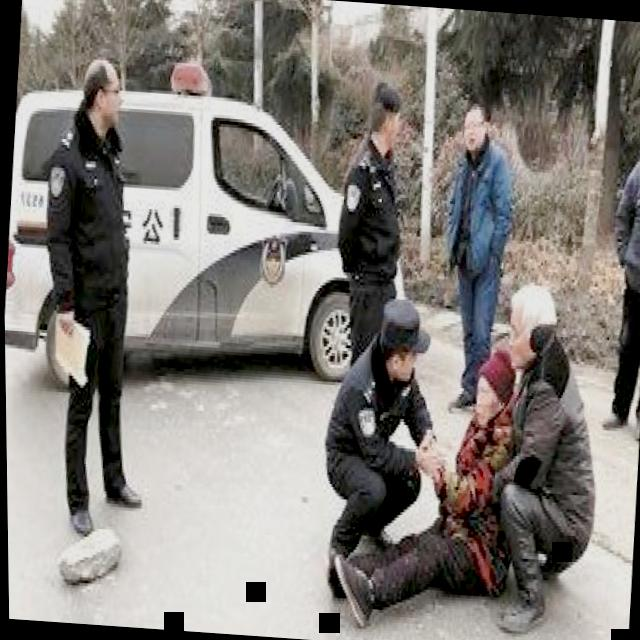Fall-Detected: (320, 391, 515, 624)
